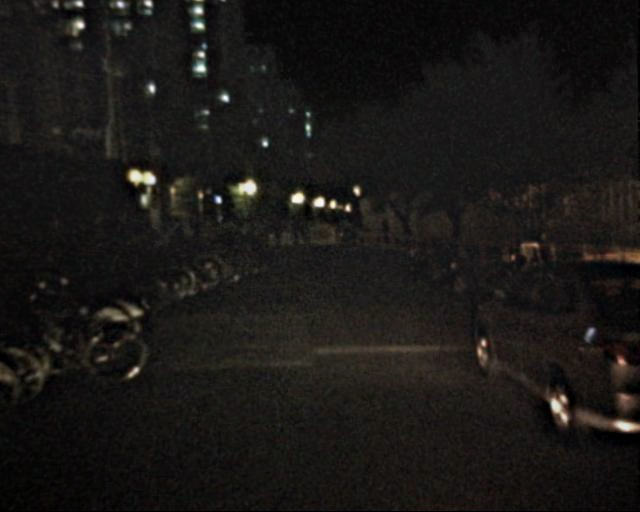person: (286, 209, 304, 252), (149, 220, 165, 259), (170, 216, 186, 255), (184, 214, 199, 250), (247, 217, 271, 239), (377, 217, 391, 252), (271, 216, 285, 250)
